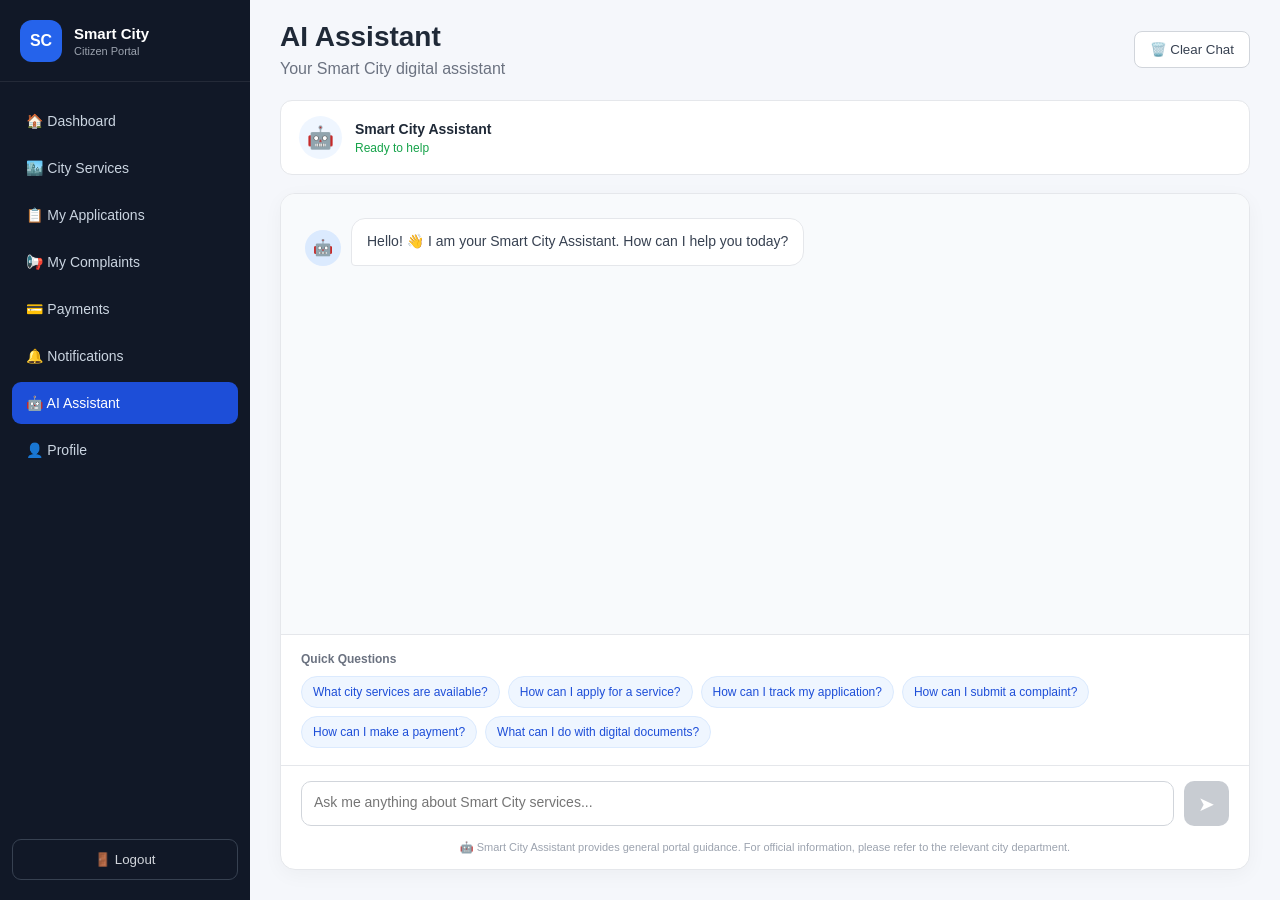
quick questions and Enter cannot start duplicate requests while waiting
(page scrolled)
Click the button "How can I make a payment?". click: x=389, y=732
box: [301,716,477,748]
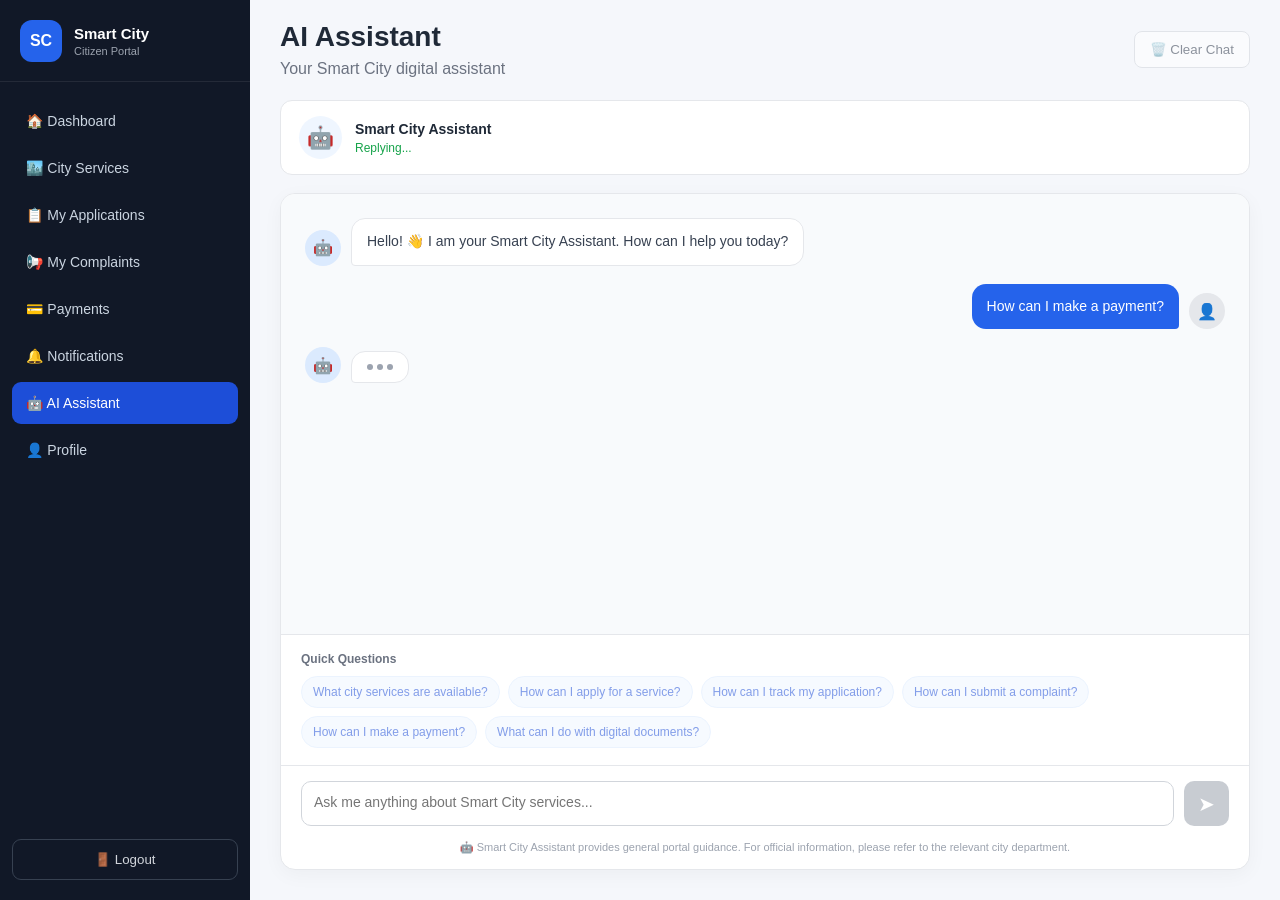
Expected: the button "How can I apply for a service?" is disabled, [508,676,693,708]
Press Enter in the text box named "Your question", box [301,781,1174,826]
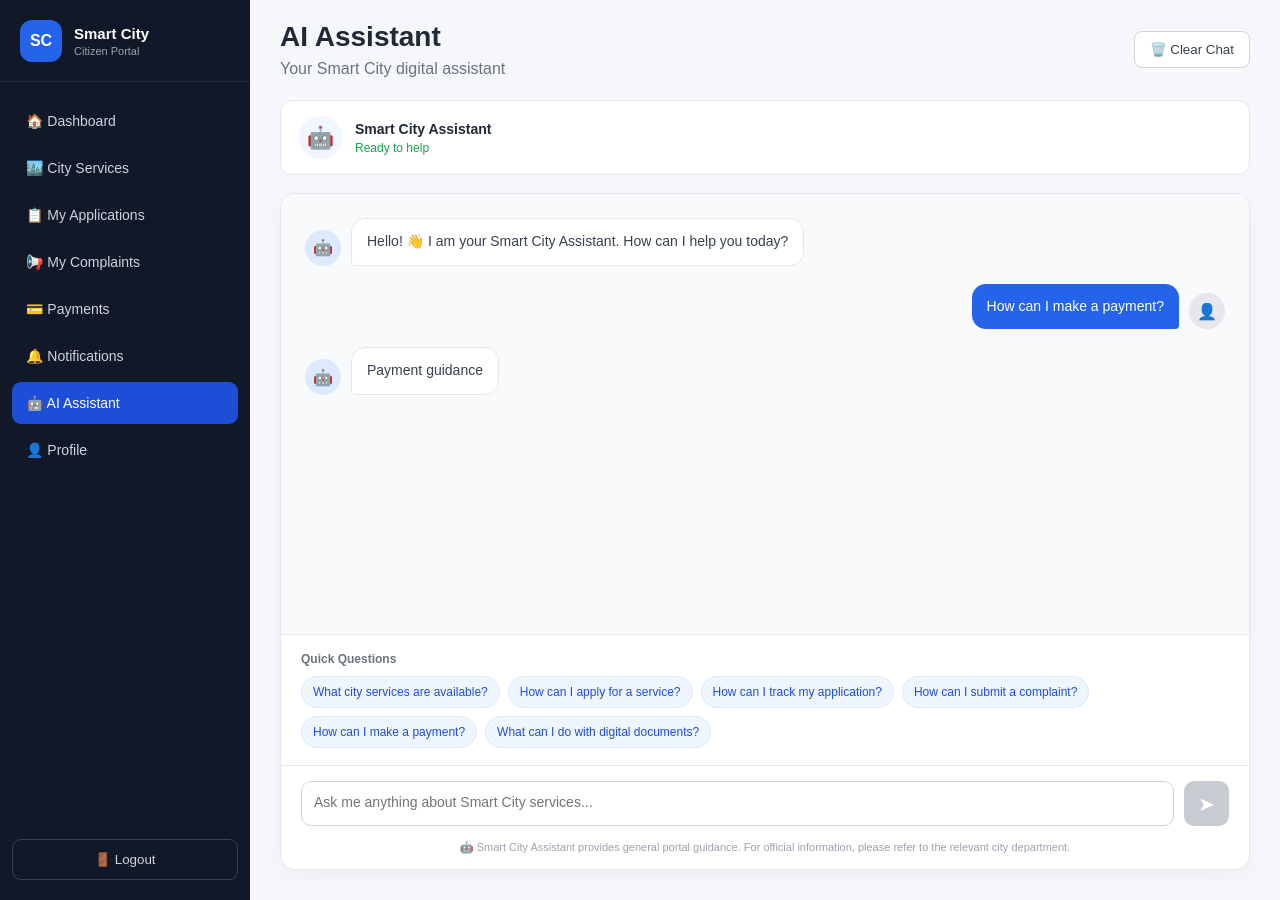
Expected: the text "Payment guidance" is shown, [351,347,499,395]
